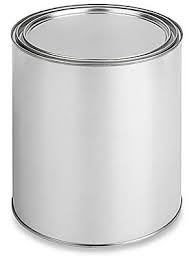can: (6, 2, 186, 250)
